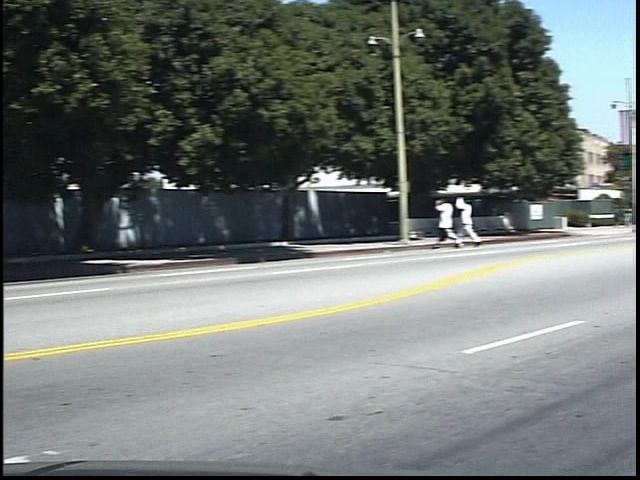person: (448, 191, 474, 254), (472, 193, 498, 252)
